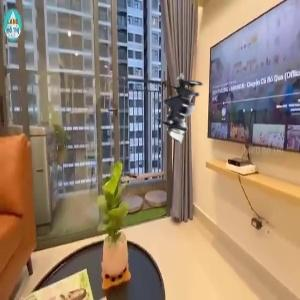drone: (141, 64, 226, 149)
